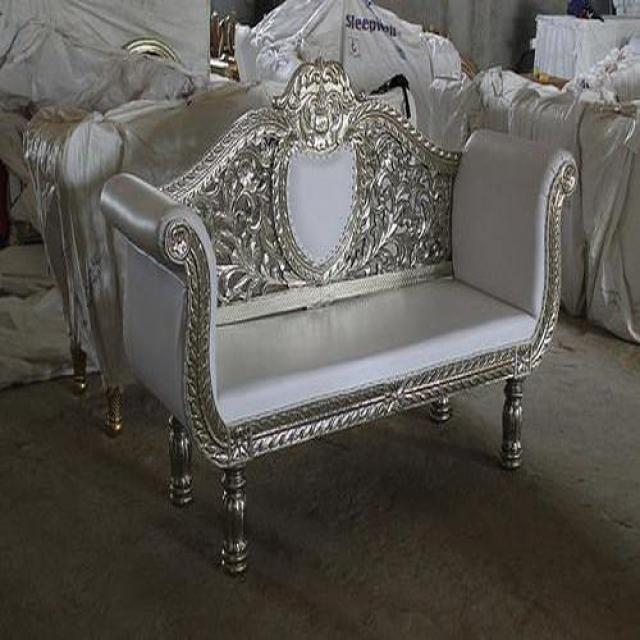sofa: (99, 63, 577, 579)
